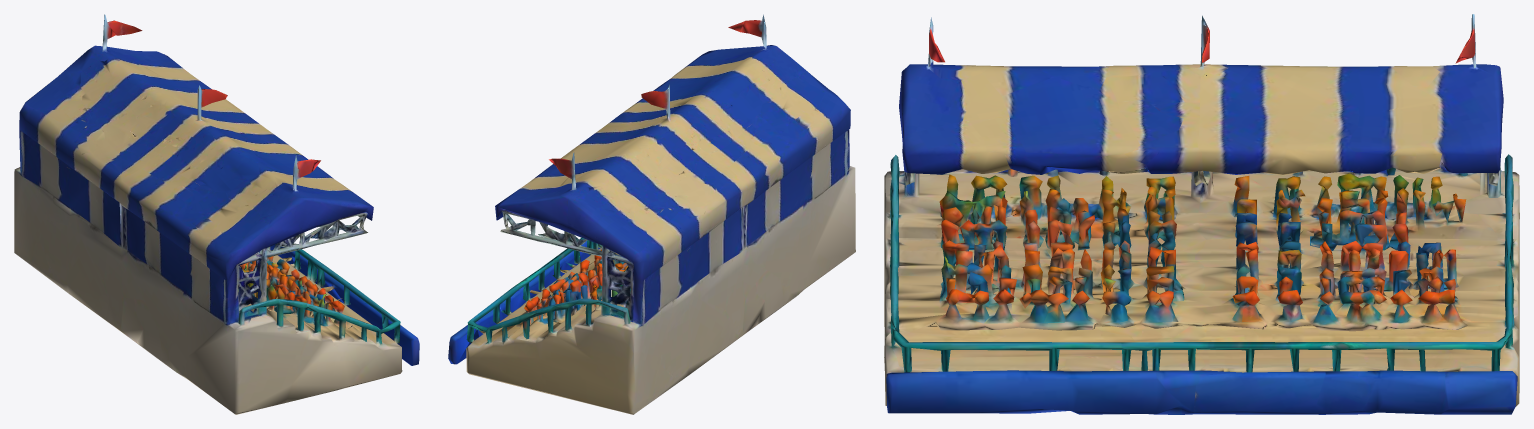
The model's file is circuit-grandstand-lod-Yv-Ot3MD.glb.
3 renders of one model, left to right at view 1: azimuth 30°, elevation 25°; view 2: azimuth 150°, elevation 25°; view 3: azimuth 270°, elevation 25°, orthographic. The views are drawn at different scales.
Parts seen in each view (by area): view 1: tripo_node_4a53c299-cf8d-4388-b5f6-71c92259aad5; view 2: tripo_node_4a53c299-cf8d-4388-b5f6-71c92259aad5; view 3: tripo_node_4a53c299-cf8d-4388-b5f6-71c92259aad5.
Part boxes in pixels (bbox=[...]): tripo_node_4a53c299-cf8d-4388-b5f6-71c92259aad5: bbox=[14, 14, 419, 414]; tripo_node_4a53c299-cf8d-4388-b5f6-71c92259aad5: bbox=[448, 14, 855, 414]; tripo_node_4a53c299-cf8d-4388-b5f6-71c92259aad5: bbox=[884, 14, 1519, 414].
Bounding box in the file's own units: 0.4944 × 0.5772 × 0.9995.
Materials: 1 (1 with a texture image).
